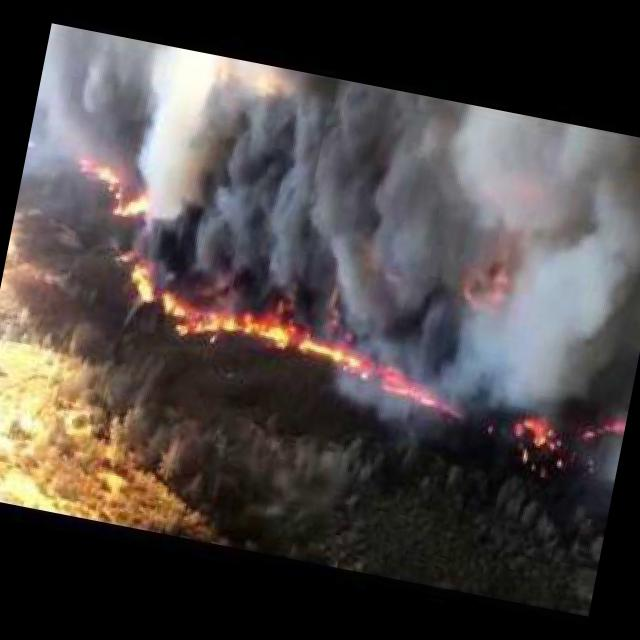Fire: (194, 302, 378, 386), (497, 399, 587, 484), (114, 260, 195, 324), (82, 162, 151, 224), (376, 359, 442, 422)
Smoke: (121, 44, 640, 410), (28, 26, 172, 164)
